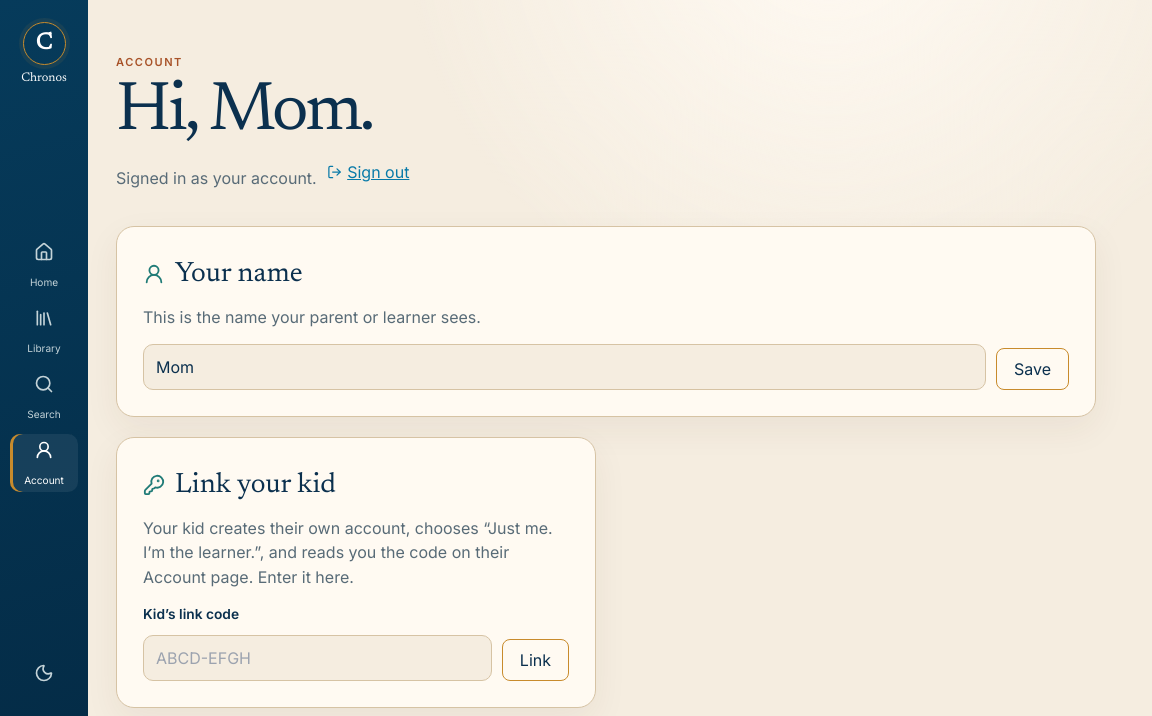
Test case: Account page › links a parent to a learner by code and explains a wrong code
Type "aaaa-bbbb" into the field labelled "Kid’s link code" at (317, 658), box [143,635,492,681]
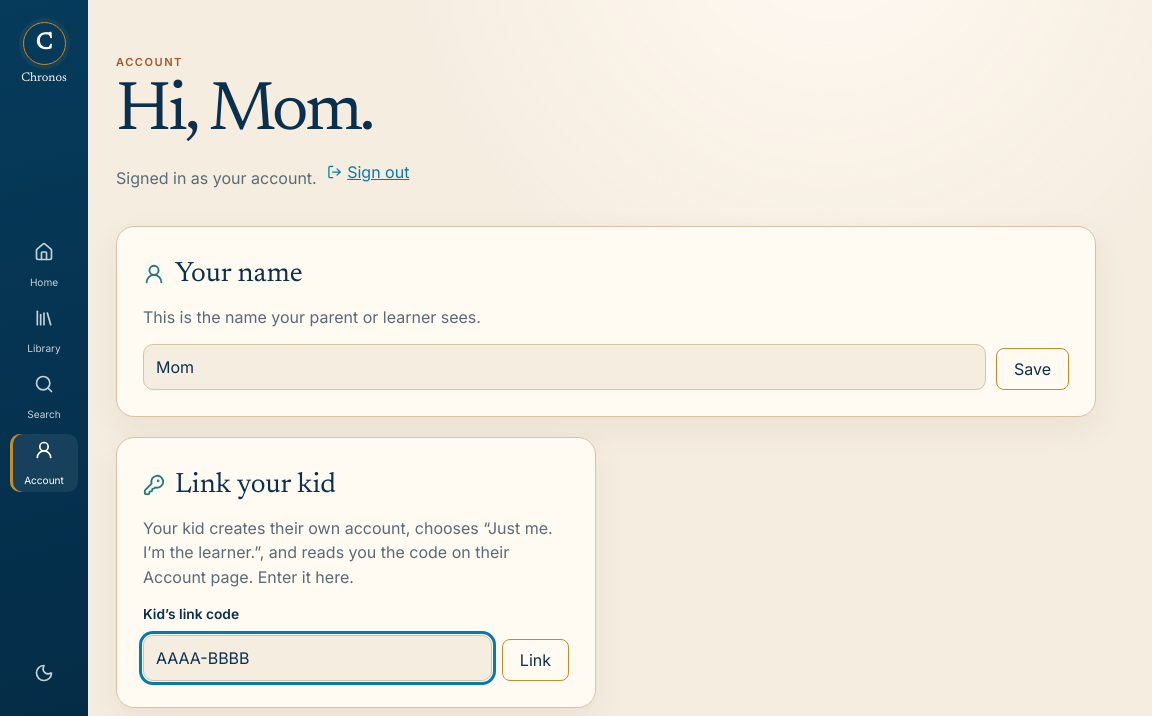
Click the button "Link" at (535, 660), box [502,639,569,681]
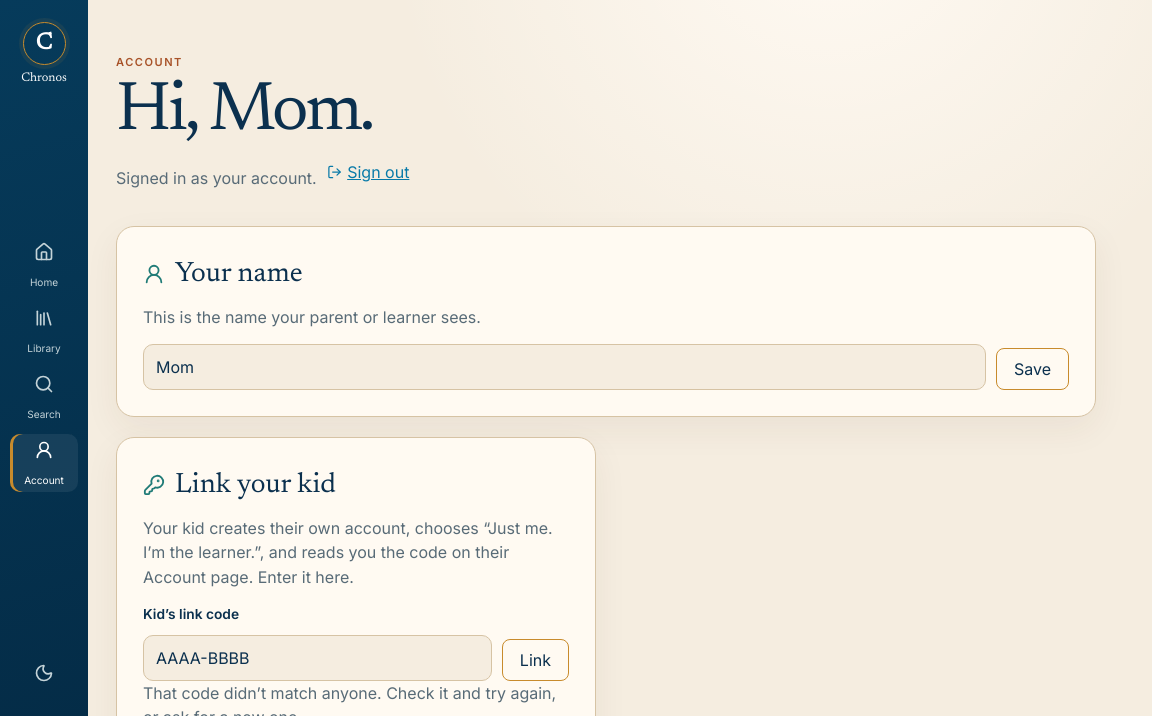
Replace the text in the field labelled "Kid’s link code" with "stuv-wxyz" at (317, 658), box [143,635,492,681]
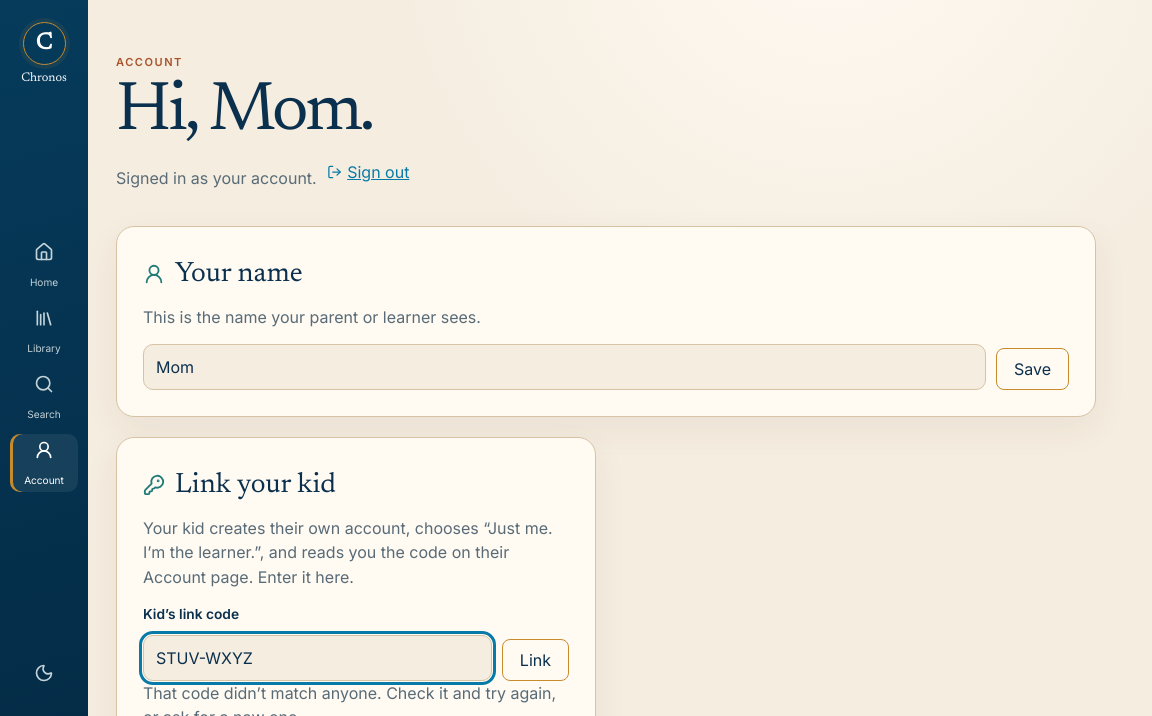
Click the button "Link" at (535, 660), box [502,639,569,681]
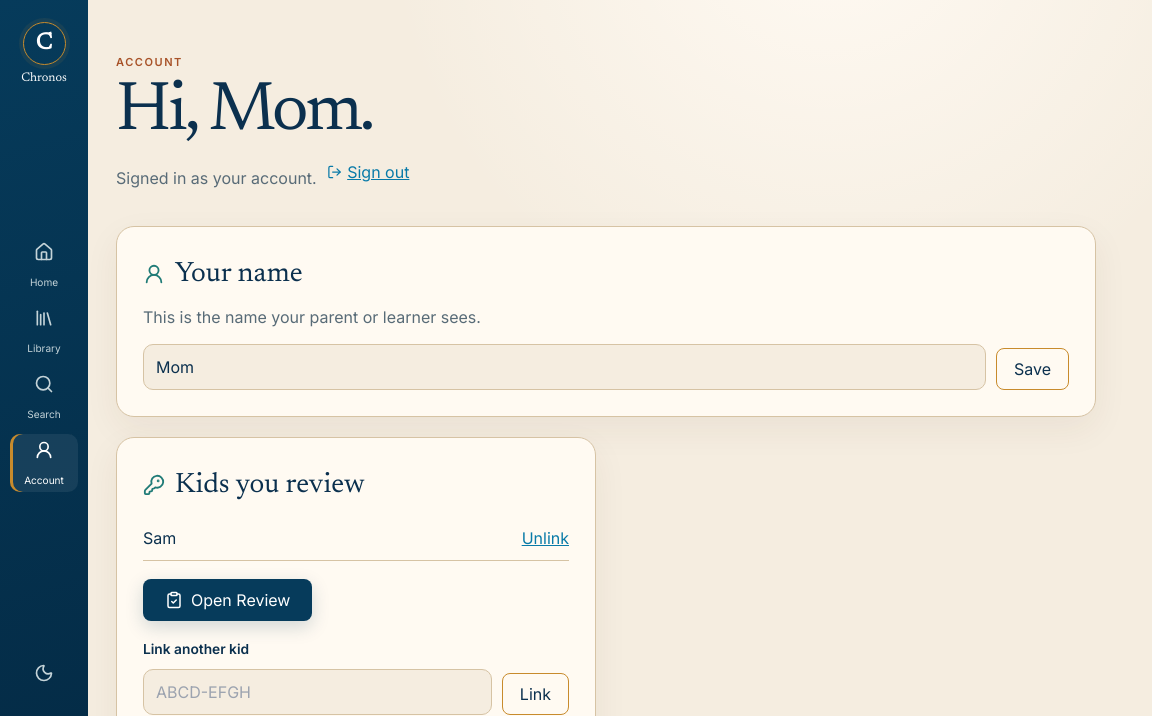
expect the heading "Kids you review" is shown: met, box [143,470,365,498]
